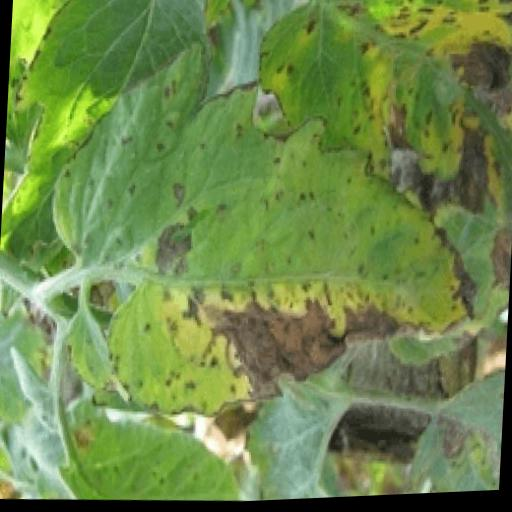Bacterial Spot: (30, 22, 494, 443), (229, 0, 512, 387)
